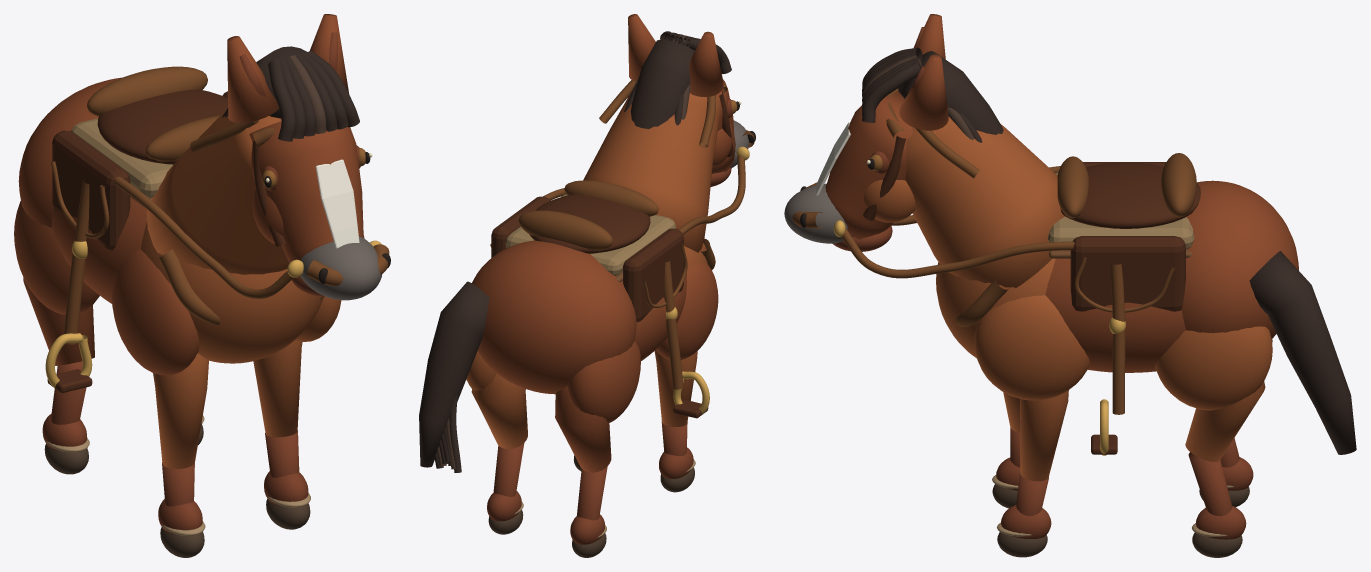
Rendered from cavalo_sela.glb.
3 views of the same model, side by side, from view 1: azimuth 30°, elevation 25°; view 2: azimuth 150°, elevation 25°; view 3: azimuth 270°, elevation 25° (orthographic). The views are drawn at different scales.
Visible parts, largest first — view 1: Pescoço alto e arqueado, Peito musculoso, Cabeça estreita de cavalo, Ombro esquerdo, Abas da sela E, Assento almofadado da sela, Dianteira E perna superior, Garupa musculosa, Coxa esquerda, Tronco, Dianteira D perna superior, Focinho aveludado (+35 smaller); view 2: Garupa musculosa, Pescoço alto e arqueado, Cauda longa, Crista escura da crina, Coxa esquerda, Abas da sela E, Assento almofadado da sela, Ombro esquerdo, Traseira E perna superior, Traseira D perna superior, Arção traseiro, Manta de sela (+24 smaller); view 3: Pescoço alto e arqueado, Garupa musculosa, Ombro direito, Cauda longa, Coxa direita, Abas da sela D, Tronco, Cabeça estreita de cavalo, Assento almofadado da sela, Peito musculoso, Dianteira D perna superior, Traseira D perna superior (+22 smaller).
Boxes of the visible parts, x1,y1,x2,y2 form: Pescoço alto e arqueado: (146,112,289,274); Peito musculoso: (141,221,323,363); Cabeça estreita de cavalo: (249,121,364,262); Ombro esquerdo: (112,249,199,375); Abas da sela E: (52,130,130,250); Assento almofadado da sela: (97,89,228,164); Dianteira E perna superior: (153,353,208,468); Garupa musculosa: (18,77,121,227); Coxa esquerda: (14,201,99,314); Tronco: (51,197,147,303); Dianteira D perna superior: (253,340,302,437); Focinho aveludado: (300,236,381,300); Garupa musculosa: (472,240,636,394); Pescoço alto e arqueado: (583,91,719,252); Cauda longa: (419,281,489,467); Crista escura da crina: (630,39,694,128); Coxa esquerda: (567,341,640,422); Abas da sela E: (623,228,683,322); Assento almofadado da sela: (529,194,650,253); Ombro esquerdo: (656,262,718,359); Traseira E perna superior: (555,386,611,472); Traseira D perna superior: (471,373,527,449); Arção traseiro: (518,210,612,250); Manta de sela: (505,194,676,275); Pescoço alto e arqueado: (905,117,1064,287); Garupa musculosa: (1181,180,1298,338); Ombro direito: (974,295,1090,400); Cauda longa: (1249,251,1356,454); Coxa direita: (1155,326,1272,410); Abas da sela D: (1070,236,1185,311); Tronco: (1045,258,1185,372); Cabeça estreita de cavalo: (825,88,912,239); Assento almofadado da sela: (1060,162,1200,228); Peito musculoso: (936,258,1055,358); Dianteira D perna superior: (1020,390,1068,481); Traseira D perna superior: (1185,381,1265,461).
Size of the model in its own units: 1.24 by 2.28 by 2.38.
